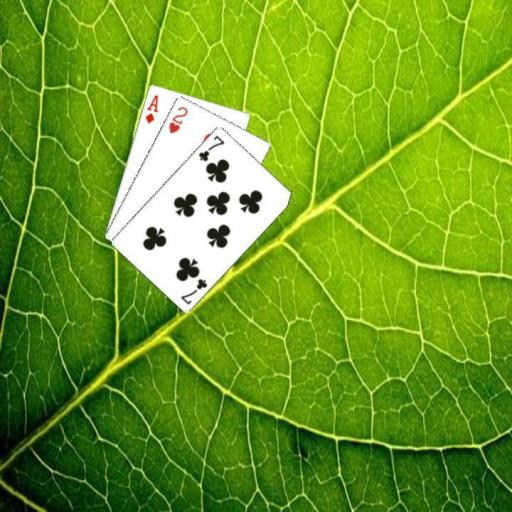2H: (166, 103, 189, 135)
7C: (195, 131, 226, 163), (178, 275, 209, 306)
AD: (143, 91, 160, 124)
